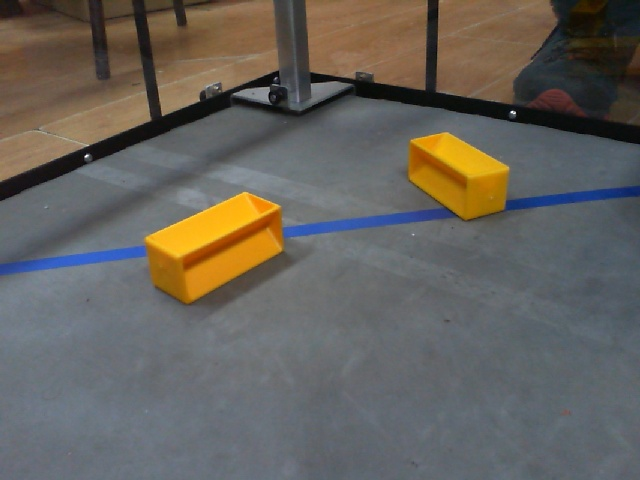YellowSample: (141, 191, 289, 306), (402, 128, 514, 227)
